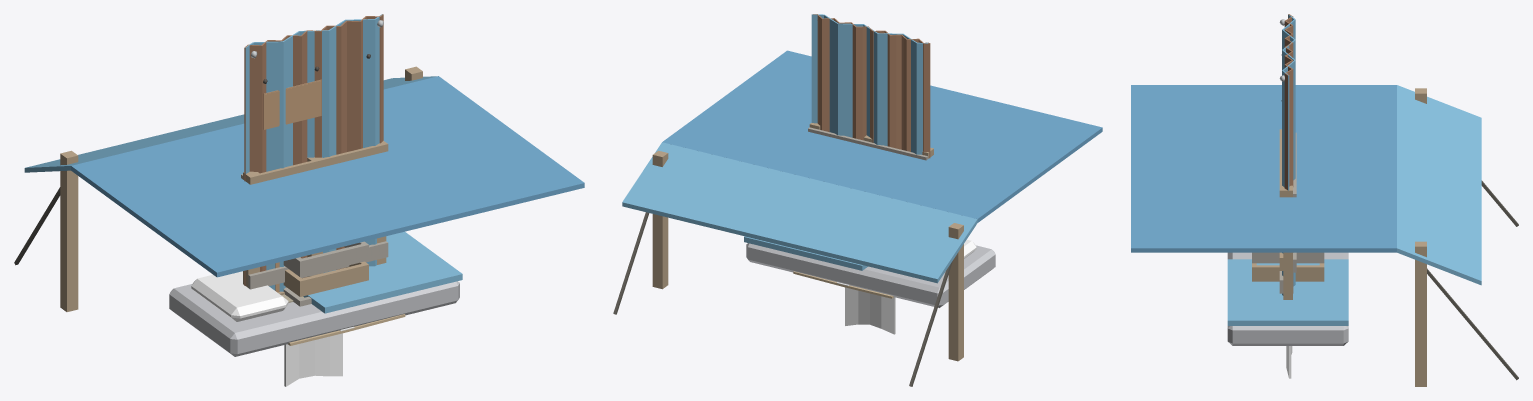
Rendered from camp_extras.glb.
3 views of the same model, side by side, from view 1: azimuth 30°, elevation 25°; view 2: azimuth 150°, elevation 25°; view 3: azimuth 270°, elevation 25° (orthographic). The views are drawn at different scales.
Parts seen in each view (by area): view 1: ce_leanto_mesh, ce_sheet_rust_mesh, ce_sheet_tarp_mesh, ce_crate_mesh, ce_pallet_mesh, ce_laundry_mesh, ce_cardboard_mesh; view 2: ce_leanto_mesh, ce_sheet_rust_mesh, ce_sheet_tarp_mesh, ce_laundry_mesh, ce_pallet_mesh; view 3: ce_leanto_mesh, ce_crate_mesh, ce_sheet_tarp_mesh, ce_sheet_rust_mesh, ce_pallet_mesh.
Boxes of the visible parts, x1,y1,x2,y2 form: ce_leanto_mesh: (14,66,584,356); ce_sheet_rust_mesh: (244,14,383,292); ce_sheet_tarp_mesh: (245,14,383,291); ce_crate_mesh: (283,241,368,306); ce_pallet_mesh: (241,140,388,295); ce_laundry_mesh: (284,333,342,386); ce_cardboard_mesh: (288,314,405,345); ce_leanto_mesh: (613,50,1102,386); ce_sheet_rust_mesh: (813,14,930,158); ce_sheet_tarp_mesh: (811,14,928,154); ce_laundry_mesh: (845,287,895,334); ce_pallet_mesh: (808,123,933,160); ce_leanto_mesh: (1131,85,1518,386); ce_crate_mesh: (1252,252,1324,281); ce_sheet_tarp_mesh: (1279,14,1295,295); ce_sheet_rust_mesh: (1281,14,1293,293); ce_pallet_mesh: (1279,129,1296,299).
Bounding box in the file's own units: 3.2 × 2.93 × 3.21.
